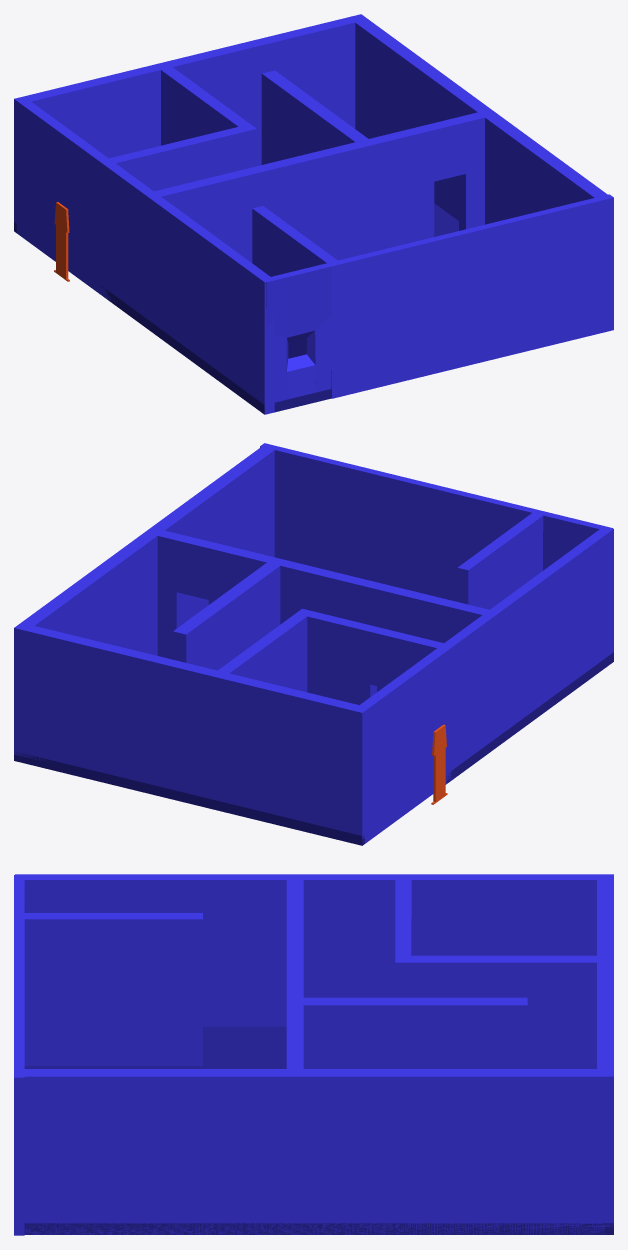
Rendered from artGalleryColored.glb.
3 views of the same model, one above another, from view 1: azimuth 30°, elevation 25°; view 2: azimuth 150°, elevation 25°; view 3: azimuth 270°, elevation 25° (orthographic). The views are drawn at different scales.
Parts seen in each view (by area): view 1: group2021007507, group568916089, group1478965101, group404629676, group999465302, group433389374, group2087378855, group172707294, group1388216964, group841275644, group878791873; view 2: group404629676, group568916089, group2021007507, group999465302, group1478965101, group2087378855, group433389374, group841275644, group1388216964, group172707294, group878791873; view 3: group999465302, group568916089, group1388216964, group433389374, group172707294, group841275644, group404629676, group2021007507, group1478965101, group2087378855.
Part boxes in pixels (bbox=[...]): group2021007507: bbox=[262, 194, 613, 402]; group568916089: bbox=[16, 98, 274, 414]; group1478965101: bbox=[148, 109, 497, 262]; group404629676: bbox=[14, 14, 367, 223]; group999465302: bbox=[353, 17, 612, 333]; group433389374: bbox=[261, 70, 371, 164]; group2087378855: bbox=[106, 124, 254, 191]; group172707294: bbox=[157, 64, 256, 168]; group1388216964: bbox=[252, 206, 337, 358]; group841275644: bbox=[14, 203, 458, 414]; group878791873: bbox=[54, 202, 69, 281]; group404629676: bbox=[14, 623, 369, 838]; group568916089: bbox=[355, 528, 613, 843]; group2021007507: bbox=[260, 443, 612, 601]; group999465302: bbox=[19, 443, 278, 655]; group1478965101: bbox=[145, 527, 495, 691]; group2087378855: bbox=[299, 609, 446, 704]; group433389374: bbox=[173, 560, 282, 670]; group841275644: bbox=[14, 652, 613, 845]; group1388216964: bbox=[457, 513, 543, 609]; group172707294: bbox=[214, 608, 310, 692]; group878791873: bbox=[431, 724, 447, 804]; group999465302: bbox=[14, 1069, 605, 1234]; group568916089: bbox=[15, 874, 607, 1026]; group1388216964: bbox=[24, 913, 202, 1065]; group433389374: bbox=[295, 997, 527, 1068]; group172707294: bbox=[395, 955, 596, 1068]; group841275644: bbox=[24, 1026, 613, 1234]; group404629676: bbox=[597, 874, 613, 1226]; group2021007507: bbox=[14, 875, 25, 1235]; group1478965101: bbox=[286, 876, 303, 1076]; group2087378855: bbox=[395, 878, 411, 958].
Size of the model in its own units: 4.69 by 1.63 by 5.6.
